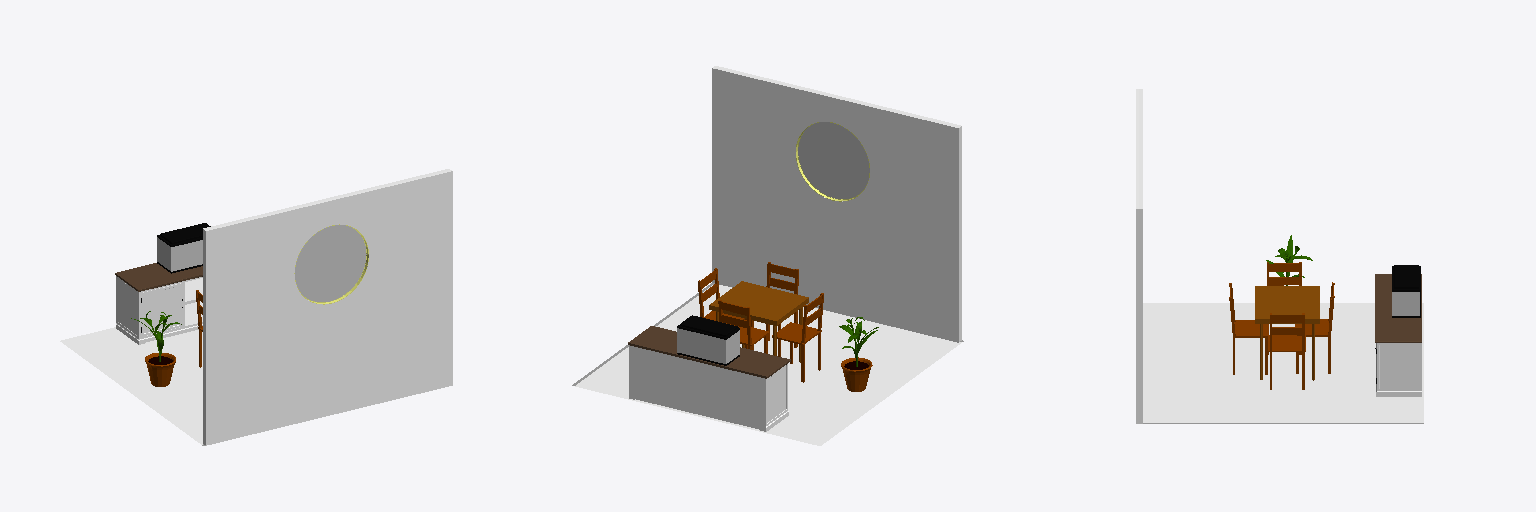
File: ComedorDerecha.obj
The picture shows the model from 3 angles: view 1: azimuth 30°, elevation 25°; view 2: azimuth 150°, elevation 25°; view 3: azimuth 270°, elevation 25°; orthographic projection.
Parts seen in each view (by area): view 1: wall_1_5, room_2_8, sweethome3d_window_pane_10, dresser_86, sweethome3d_opening_on_hinge_1_door_93, top_88, sweethome3d_window_pane_110, Pot_16_35, Top_21_112; view 2: wall_1_4, room_2_8, dresser_86, sweethome3d_window_pane_10, Plateau_49, top_88, sweethome3d_window_pane_110, Top_21_112, Pot_16_35, Assise_82; view 3: room_2_8, dresser_86, Plateau_49, top_88, wall_1_4, sweethome3d_window_pane_110, wall_1_5, Top_21_112, Assise_55.
Boxes of the visible parts, <box> form: wall_1_5: <box>204,171,452,445</box>; room_2_8: <box>60,327,202,444</box>; sweethome3d_window_pane_10: <box>295,225,366,301</box>; dresser_86: <box>116,276,202,344</box>; sweethome3d_opening_on_hinge_1_door_93: <box>141,283,182,336</box>; top_88: <box>115,263,202,291</box>; sweethome3d_window_pane_110: <box>157,237,202,271</box>; Pot_16_35: <box>145,353,175,386</box>; Top_21_112: <box>160,223,210,244</box>; wall_1_4: <box>712,68,959,342</box>; room_2_8: <box>575,285,961,445</box>; dresser_86: <box>629,345,788,431</box>; sweethome3d_window_pane_10: <box>798,122,869,198</box>; Plateau_49: <box>709,281,808,325</box>; top_88: <box>628,326,790,378</box>; sweethome3d_window_pane_110: <box>677,328,739,363</box>; Top_21_112: <box>680,315,737,336</box>; Pot_16_35: <box>841,357,872,391</box>; Assise_82: <box>772,322,821,344</box>; room_2_8: <box>1143,303,1423,422</box>; dresser_86: <box>1376,343,1421,396</box>; Plateau_49: <box>1255,286,1319,323</box>; top_88: <box>1375,274,1421,342</box>; wall_1_4: <box>1139,209,1142,423</box>; sweethome3d_window_pane_110: <box>1392,292,1419,315</box>; wall_1_5: <box>1136,209,1138,423</box>; Top_21_112: <box>1394,265,1418,288</box>; Assise_55: <box>1268,335,1305,351</box>.
Size of the model in its own units: 304 by 250 by 305.